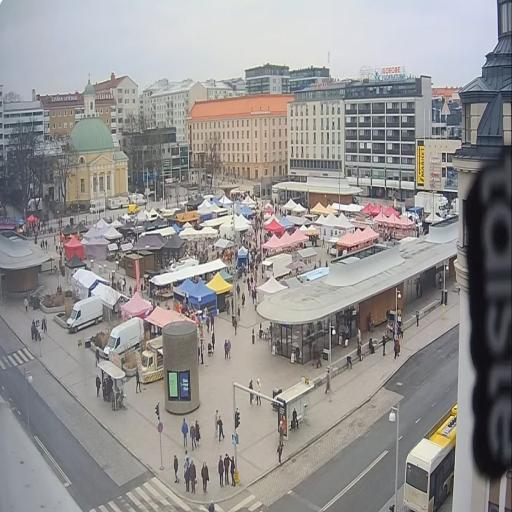Bus: (404, 403, 457, 511)
Delivery: (104, 317, 143, 358), (67, 296, 103, 333), (137, 336, 163, 383)
